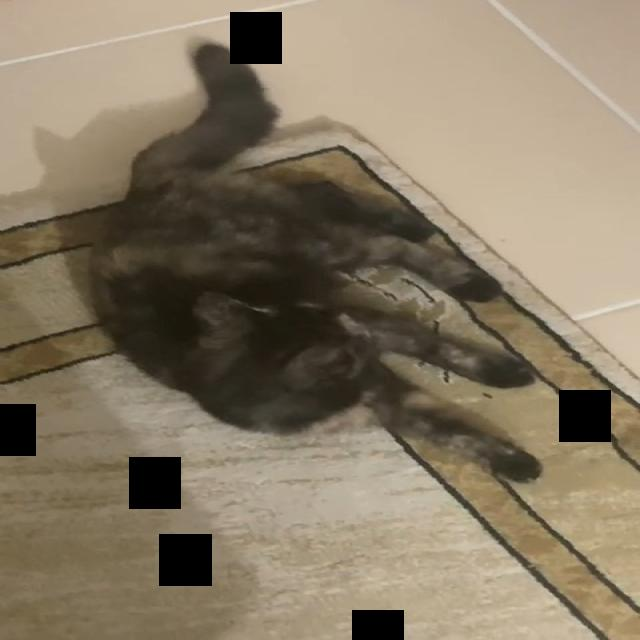authorized: (86, 37, 546, 484)
